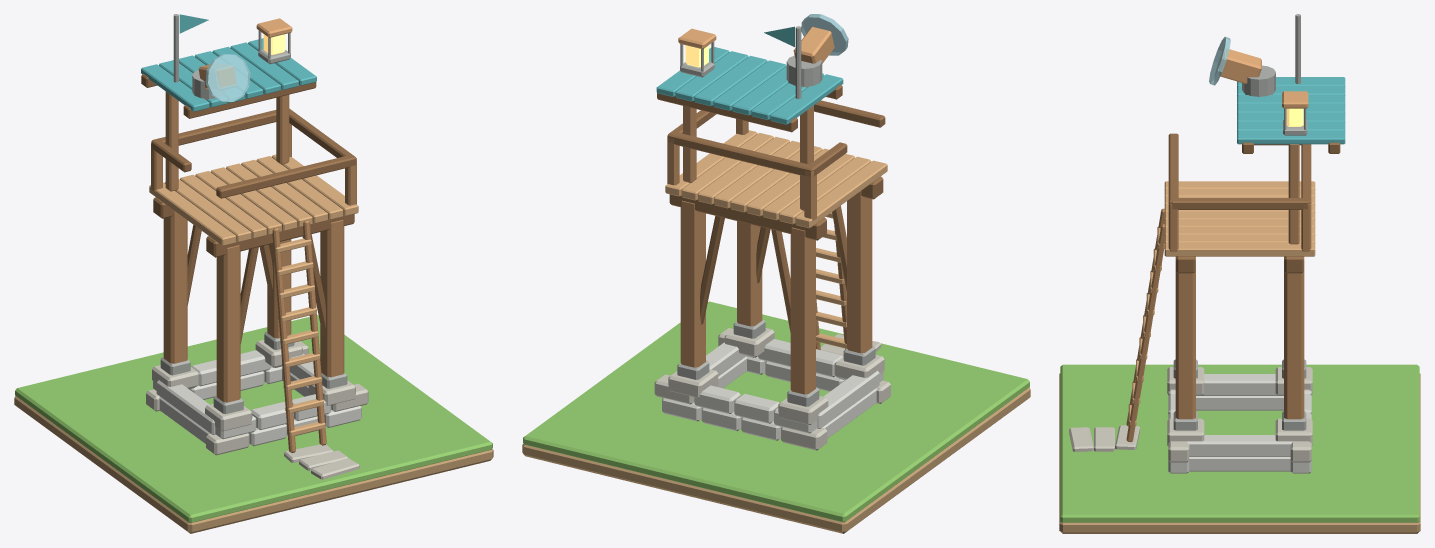
File: tower_l03_active_LOD0.glb
3 renders of one model, left to right at view 1: azimuth 30°, elevation 25°; view 2: azimuth 150°, elevation 25°; view 3: azimuth 270°, elevation 25°, orthographic. The views are drawn at different scales.
Parts seen in each view (by area): view 1: tower_l03_grass_tile, tower_l03_earth_tile, post_-0.61_-0.54, post_-0.61_0.54, post_0.61_-0.54, balcony_rail_-0.66, telescope_lens, ladder_rail_-0.18, deck_board_0, ladder_rail_0.18, stone_return_1_-0.72, deck_bearer_-0.54 (+33 smaller); view 2: tower_l03_grass_tile, tower_l03_earth_tile, post_-0.61_0.54, post_-0.61_-0.54, post_0.61_0.54, post_0.61_-0.54, balcony_rail_0.66, deck_board_0, deck_bearer_0.54, stone_return_1_-0.72, canopy_board_0, deck_board_7 (+37 smaller); view 3: tower_l03_grass_tile, tower_l03_earth_tile, post_0.61_0.54, post_0.61_-0.54, deck_board_8, stone_return_1_0.72, balcony_side_rail, stone_return_1_-0.72, stone_return_0_0.72, ladder_rail_0.18, canopy_board_6, stone_return_0_-0.72 (+28 smaller).
Boxes of the visible parts, x1,y1,x2,y2 form: tower_l03_grass_tile: (15, 315, 492, 522); tower_l03_earth_tile: (14, 396, 493, 533); post_-0.61_-0.54: (216, 245, 240, 402); post_-0.61_0.54: (163, 210, 187, 363); post_0.61_-0.54: (320, 220, 344, 377); balcony_rail_-0.66: (216, 156, 356, 198); telescope_lens: (205, 54, 250, 101); ladder_rail_-0.18: (272, 228, 295, 452); deck_board_0: (149, 182, 236, 245); ladder_rail_0.18: (303, 220, 326, 445); stone_return_1_-0.72: (156, 380, 215, 434); deck_bearer_-0.54: (206, 214, 354, 257); tower_l03_grass_tile: (523, 301, 1029, 522); tower_l03_earth_tile: (522, 387, 1030, 533); post_-0.61_0.54: (790, 227, 815, 394); post_-0.61_-0.54: (847, 191, 872, 353); post_0.61_0.54: (680, 200, 705, 367); post_0.61_-0.54: (737, 221, 762, 326); balcony_rail_0.66: (667, 131, 814, 176); deck_board_0: (795, 160, 887, 228); deck_bearer_0.54: (669, 194, 826, 240); stone_return_1_-0.72: (817, 370, 879, 428); canopy_board_0: (770, 74, 843, 124); deck_board_7: (681, 133, 773, 200); tower_l03_grass_tile: (1060, 364, 1419, 522); tower_l03_earth_tile: (1059, 373, 1420, 533); post_0.61_0.54: (1284, 256, 1304, 419); post_0.61_-0.54: (1175, 256, 1195, 419); deck_board_8: (1164, 242, 1315, 256); stone_return_1_0.72: (1187, 435, 1292, 456); balcony_side_rail: (1171, 198, 1308, 209); stone_return_1_-0.72: (1202, 374, 1277, 395); stone_return_0_0.72: (1189, 457, 1290, 471); ladder_rail_0.18: (1126, 224, 1164, 442); canopy_board_6: (1237, 130, 1345, 144); stone_return_0_-0.72: (1196, 396, 1283, 410).
Size of the model in its own units: 3.6 by 4.61 by 3.6.
